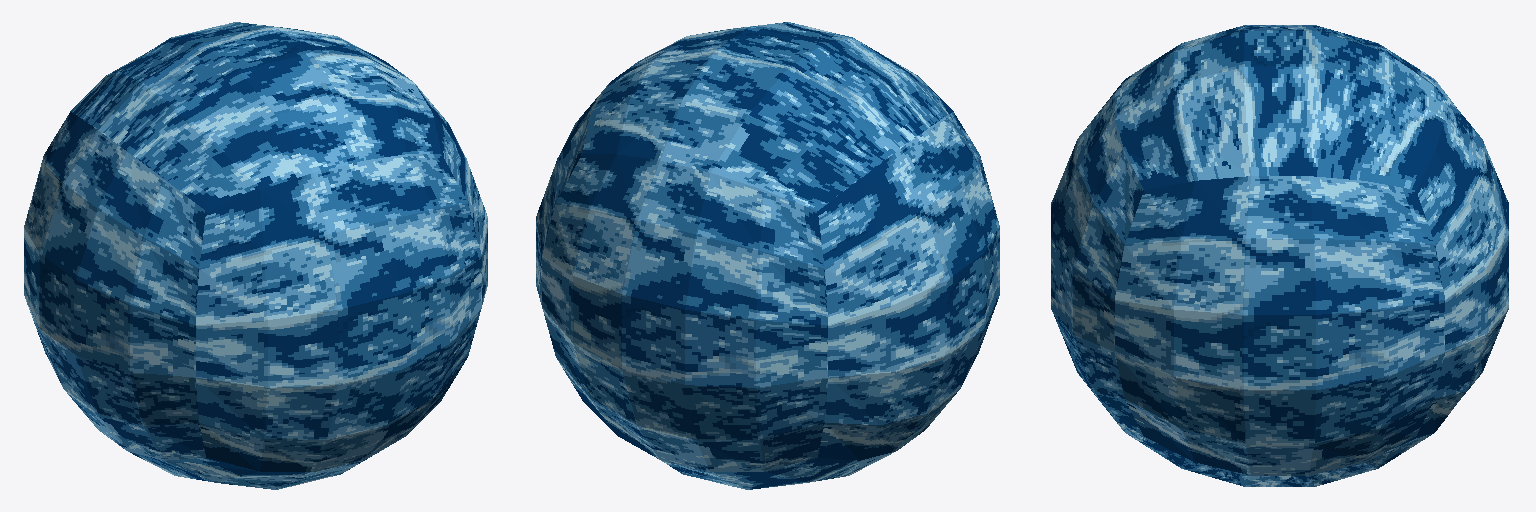
The picture shows the model from 3 angles: view 1: azimuth 30°, elevation 25°; view 2: azimuth 150°, elevation 25°; view 3: azimuth 270°, elevation 25°; orthographic projection.
Parts seen in each view (by area): view 1: 300.018; view 2: 300.018; view 3: 300.018.
Part boxes in pixels (x1,y1,x2,y2): 300.018: (24, 22, 487, 489); 300.018: (536, 22, 999, 489); 300.018: (1051, 25, 1508, 486).
Bounding box in the file's own units: 3.36 × 3.36 × 3.36.
1 materials, 1 textured.